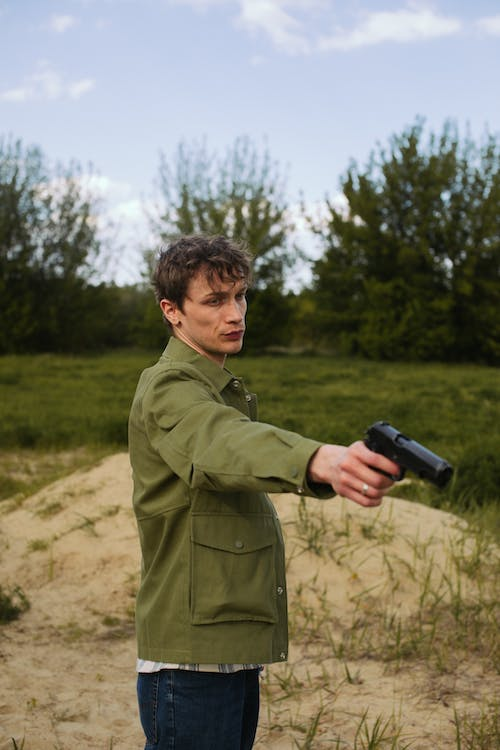gun: (362, 419, 455, 492)
